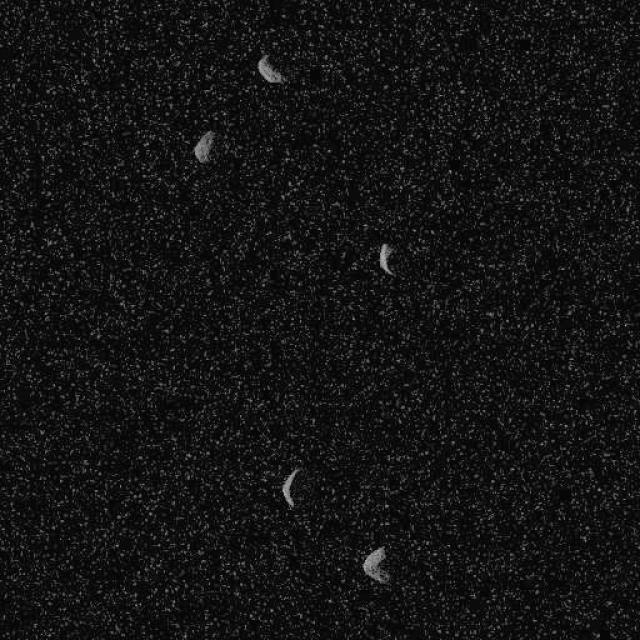D2: (361, 545, 389, 584), (256, 53, 285, 85), (280, 465, 300, 509), (192, 128, 216, 164), (378, 242, 397, 278)
